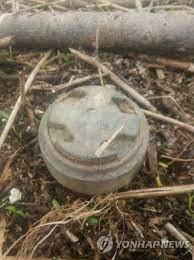pmn: (36, 82, 151, 198)
